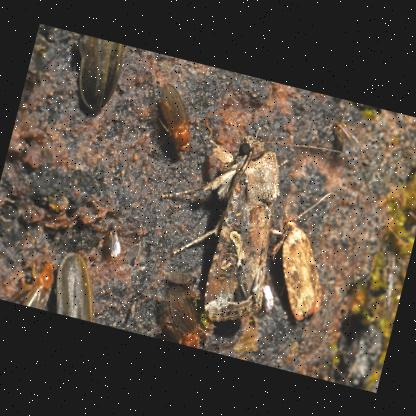Fall Armyworm Moth: (130, 98, 349, 346), (246, 175, 352, 328)
